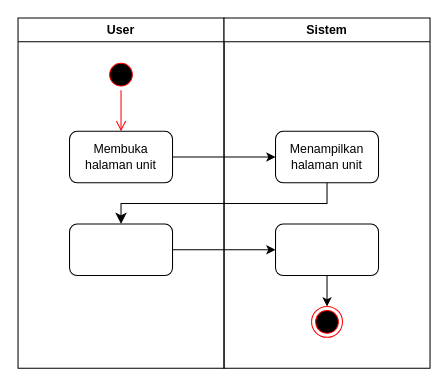
Image size: 448x386. Some labels were removed from this diagram. Each missing label, with the centre of its shape:
Menampilkan hasil pencarian: the point at 326,249
Tulis kata kunci yang ingin dicari: the point at 120,249
